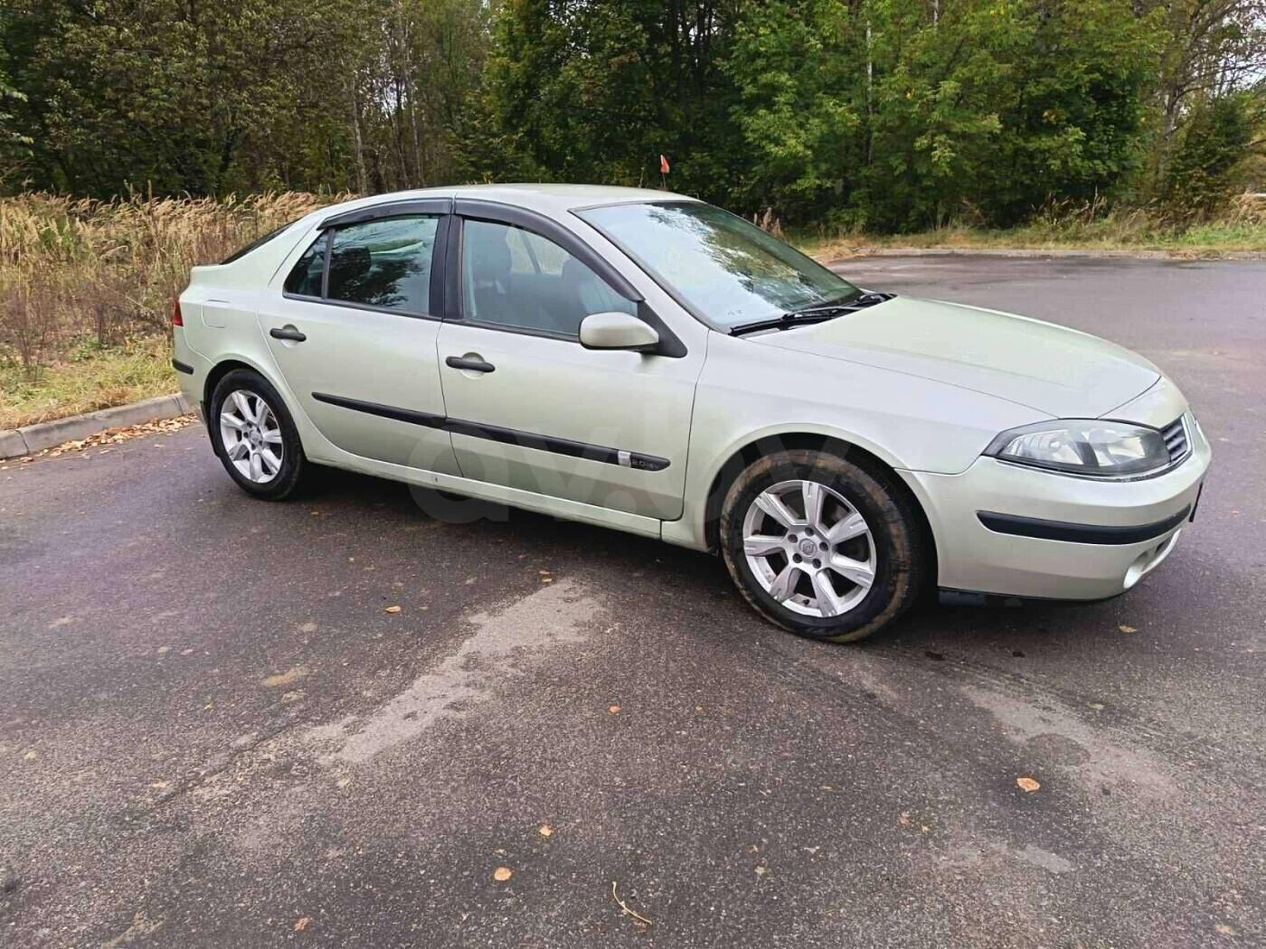Laguna_2005-2007: (161, 174, 1217, 640)
